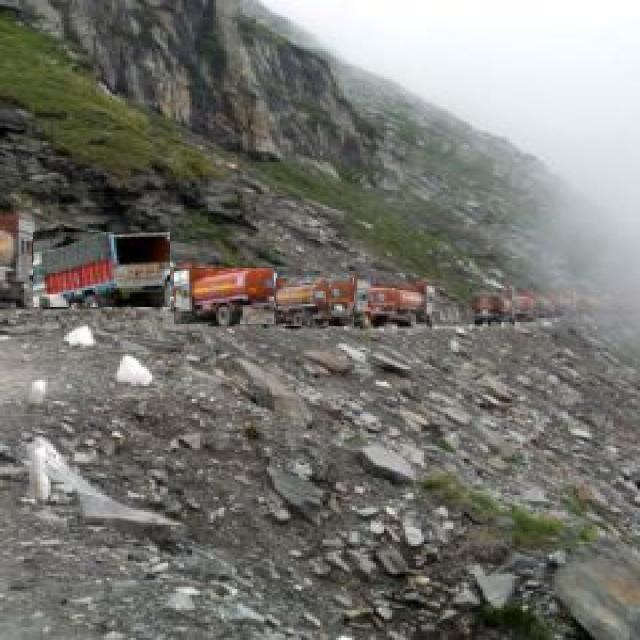truck: (33, 233, 169, 307), (174, 268, 274, 324), (276, 279, 354, 326), (372, 286, 434, 325)
